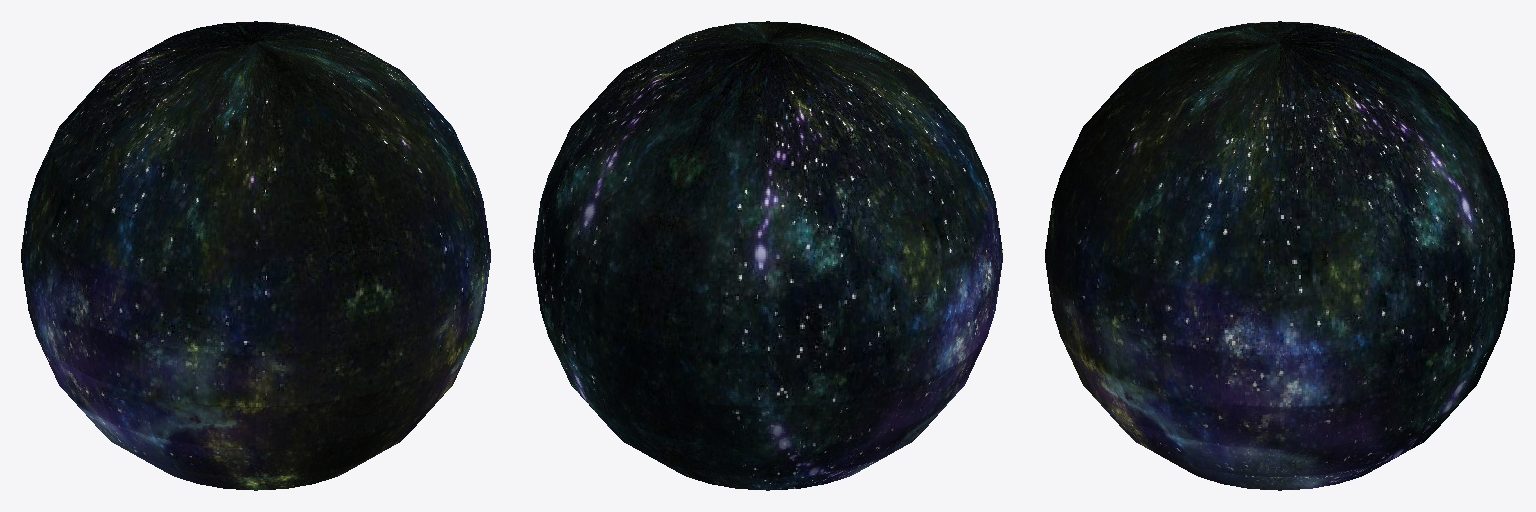
The picture shows the model from 3 angles: view 1: azimuth 30°, elevation 25°; view 2: azimuth 150°, elevation 25°; view 3: azimuth 270°, elevation 25°; orthographic projection.
Visible parts, largest first — view 1: Sphere001; view 2: Sphere001; view 3: Sphere001.
Part boxes in pixels (x1,y1,x2,y2): Sphere001: (21,21,490,490); Sphere001: (533,21,1002,490); Sphere001: (1045,21,1514,490).
Bounding box in the file's own units: 200 × 200 × 200.
1 materials, 1 textured.